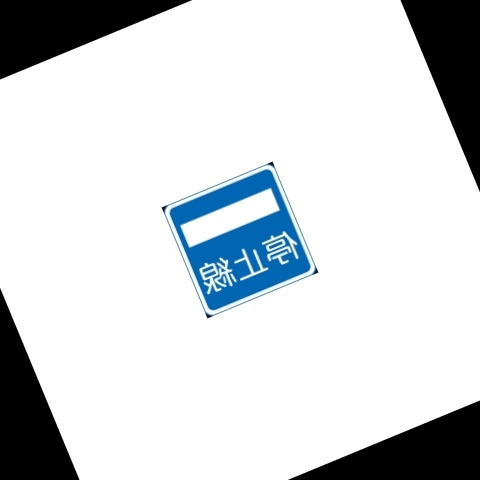Japan_Stop line: (74, 76, 405, 403)
